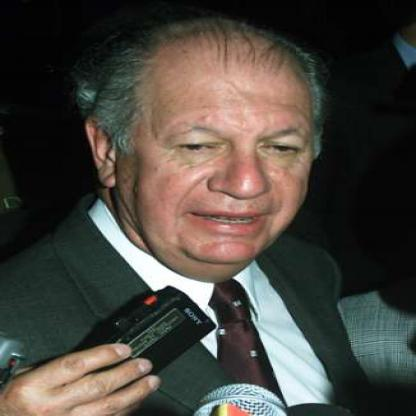face: (116, 23, 324, 268)
